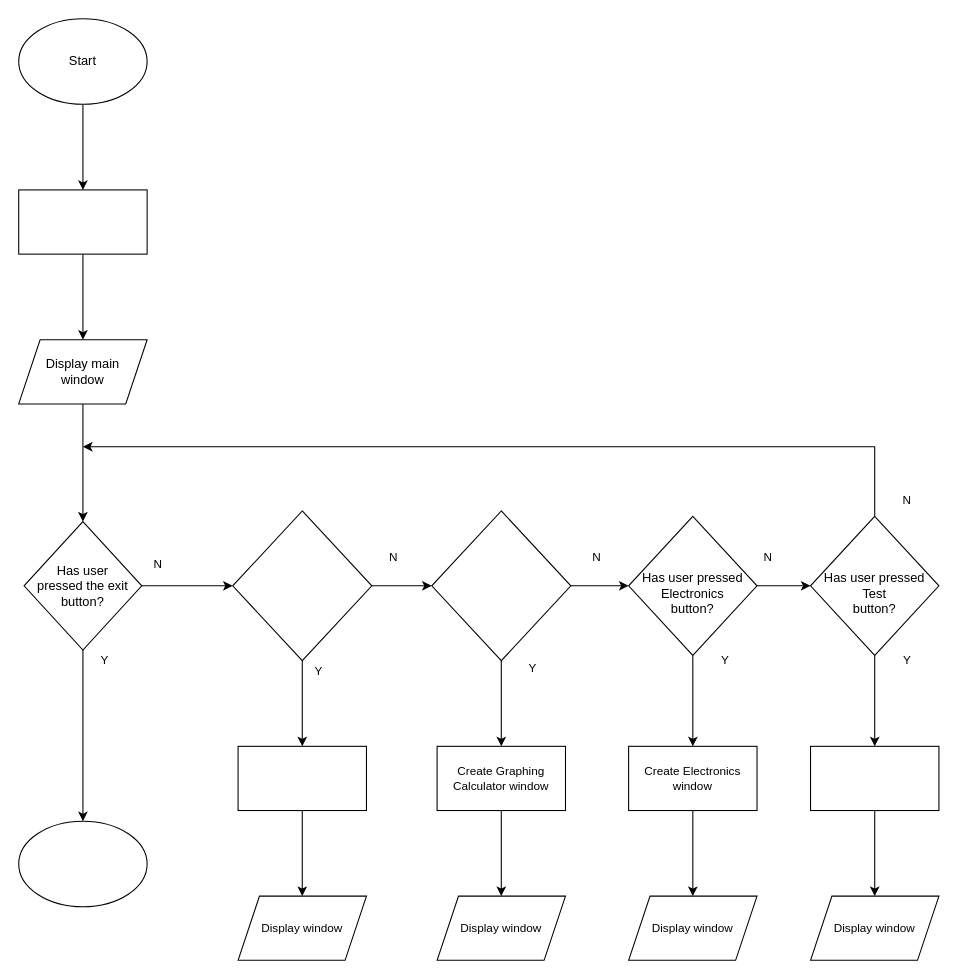
The diagram is 958 pixels wide and 979 high, and some of its shapes have lost their labels. The shapes that lost their labels are listed below. From the top down, each one's centre as x and y in pixels, then its label:
[82,221]: Create Graphing Window
[302,585]: Has user pressed Maths and Physics button?
[501,585]: Has user pressed Graphing Calculator button?
[301,778]: Create Maths and Physics window
[874,778]: Create Test window
[82,863]: End
